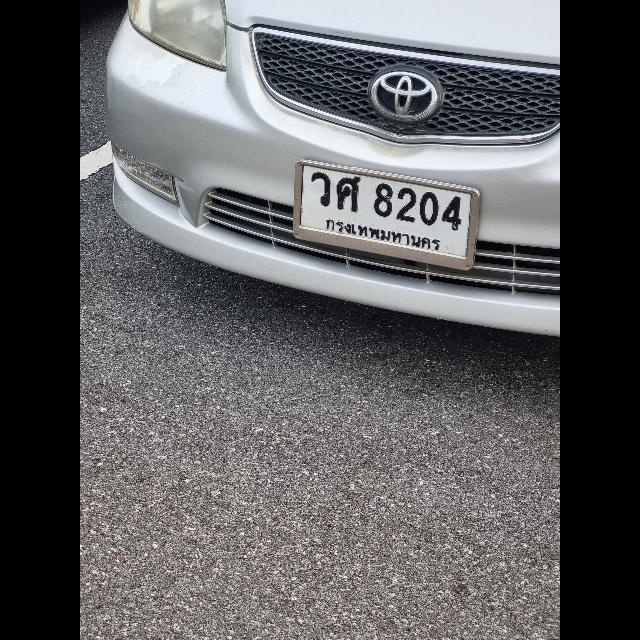licenseplate: (292, 160, 480, 272)
